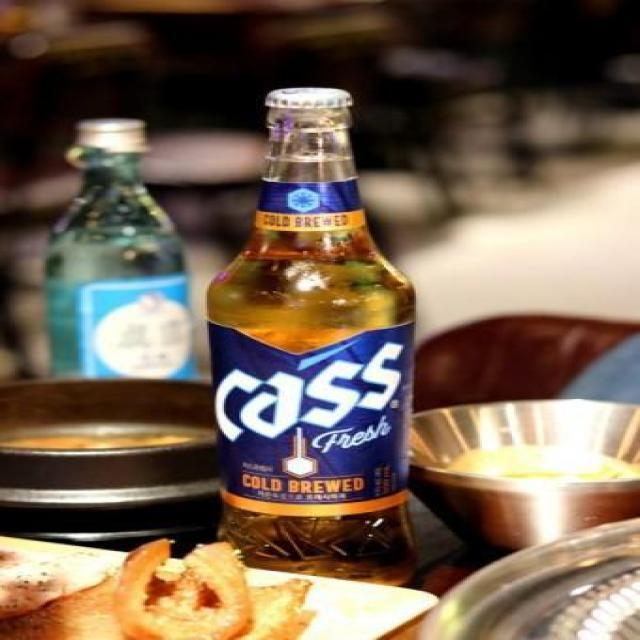beer-bottle: (213, 81, 433, 579)
soju-bottle: (35, 115, 202, 383)
